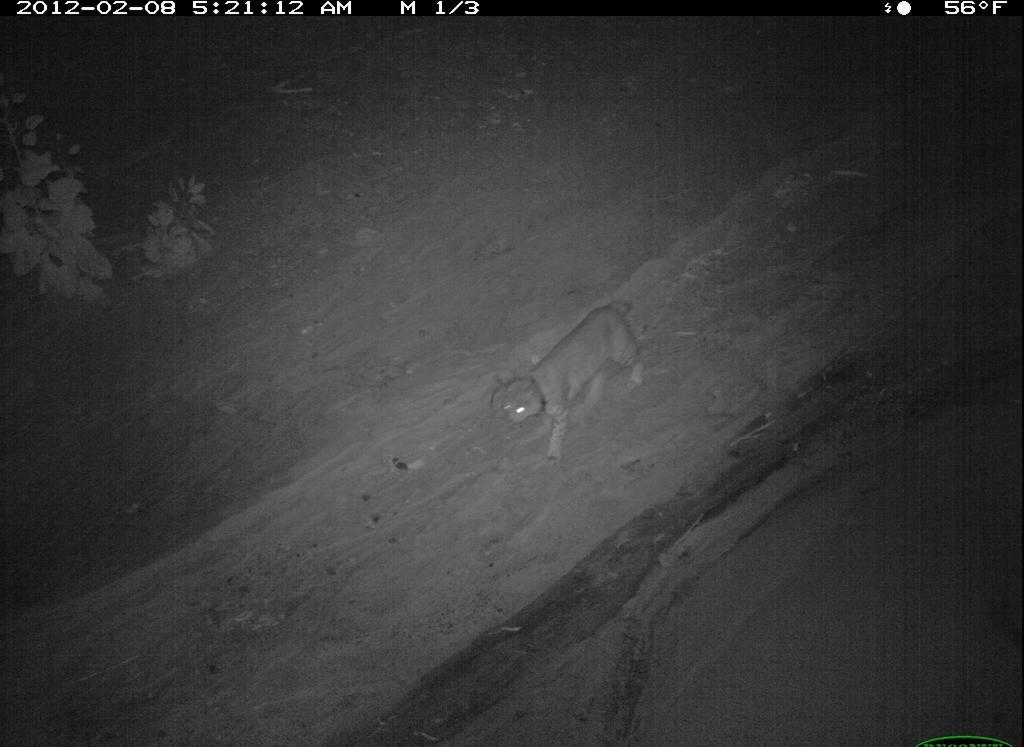bobcat: (984, 587, 1024, 747)
